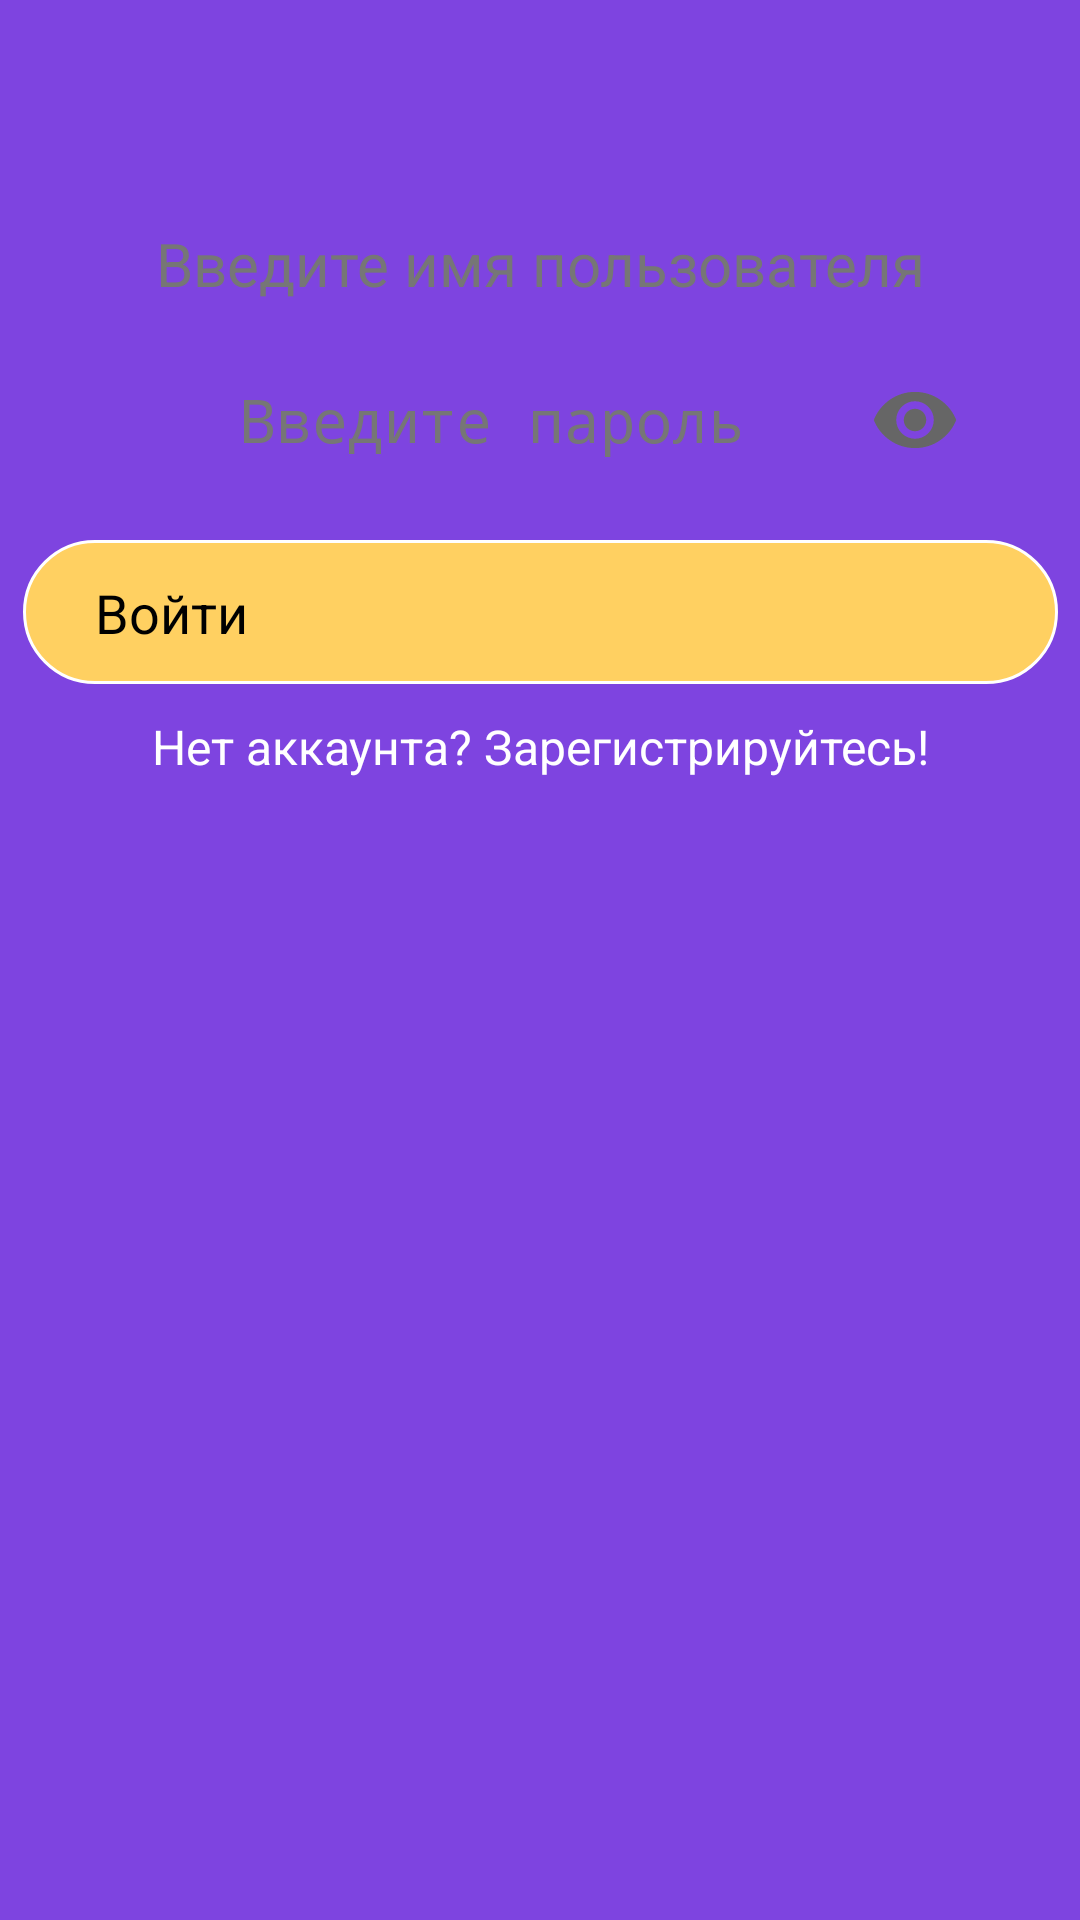

Icons on this 1080*1920 Android screen, each with the point to tap as (x,y):
Показать/скрыть пароль: (915,420)
